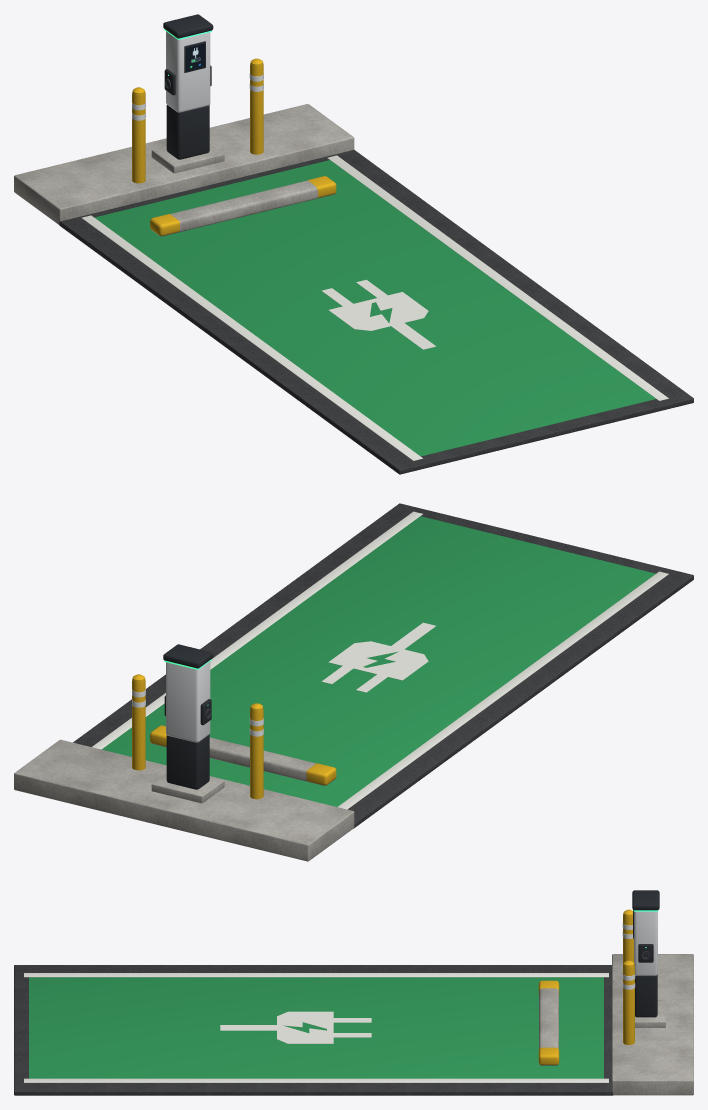
File: charging-bay.glb
The picture shows the model from 3 angles, top to bottom: view 1: azimuth 30°, elevation 25°; view 2: azimuth 150°, elevation 25°; view 3: azimuth 270°, elevation 25°; orthographic projection. The views are drawn at different scales.
Visible parts, largest first — view 1: Charging_Bay; view 2: Charging_Bay; view 3: Charging_Bay.
Boxes of the visible parts, <box> form: Charging_Bay: <box>14,14,693,474</box>; Charging_Bay: <box>14,503,693,861</box>; Charging_Bay: <box>14,890,693,1095</box>.
Bounding box in the file's own units: 3 × 1.49 × 6.8.
12 materials, 3 textured.
